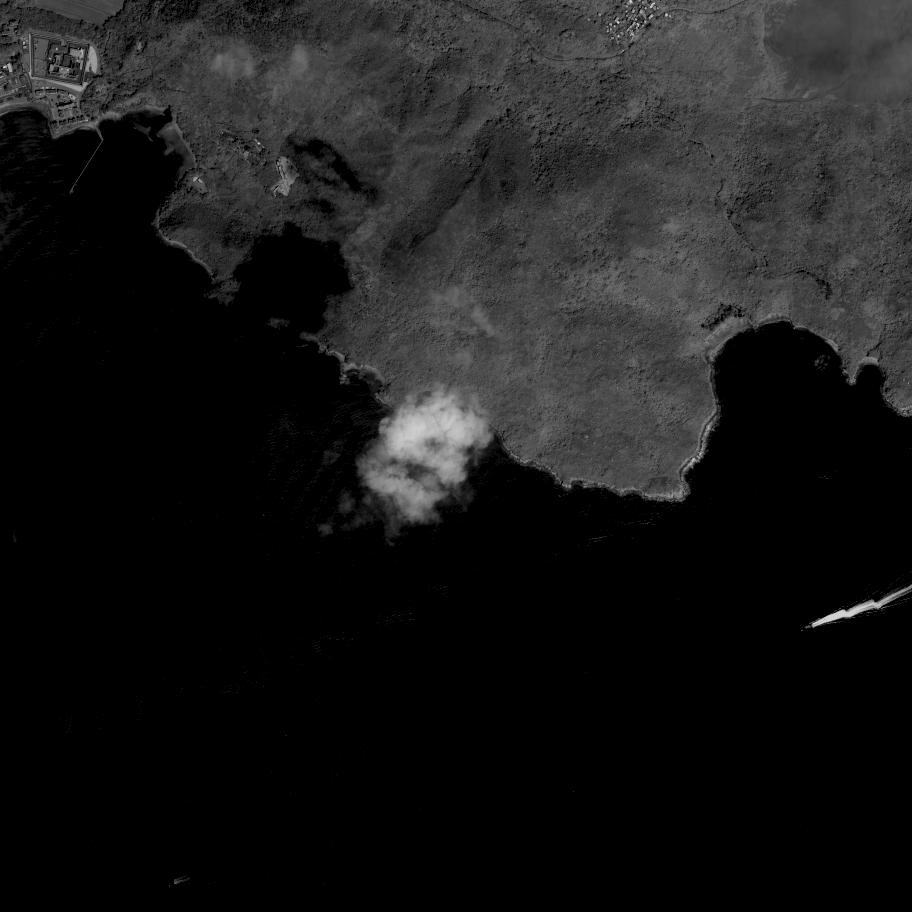ship: (799, 625, 813, 630), (166, 881, 174, 886)
